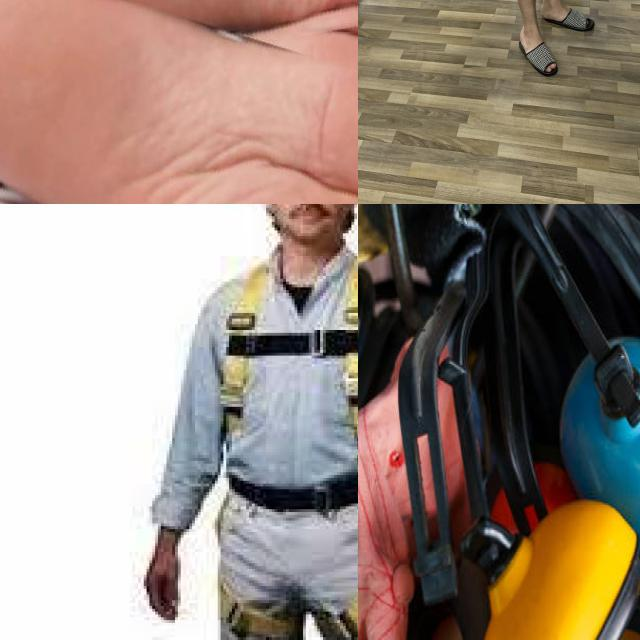Barefoots: (0, 0, 358, 204)
Ear-protection: (468, 214, 640, 640), (506, 204, 640, 536), (397, 248, 490, 640)
Harness: (216, 254, 358, 640)
Sandals: (517, 18, 562, 78), (538, 0, 596, 32)
